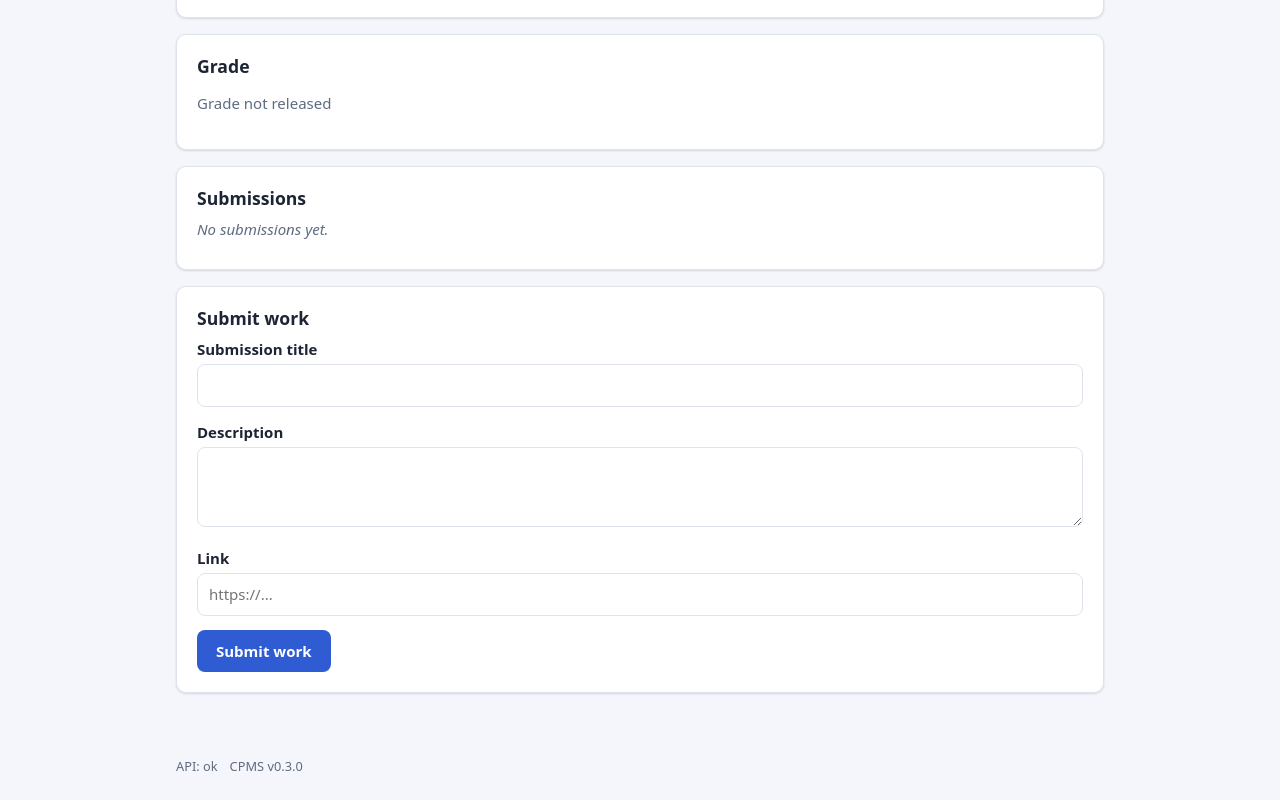
Scenario: Defect #90 UI rejection messages (NFR-12) › TEST-90-UI05: F-03 StudentMilestone renders 'Contains an unsupported character' instead of INVALID_CHARACTER
The width and height of the screenshot is (1280, 800).
(page scrolled)
Click the button "Submit work". click: (264, 651)
box: [197,630,331,672]
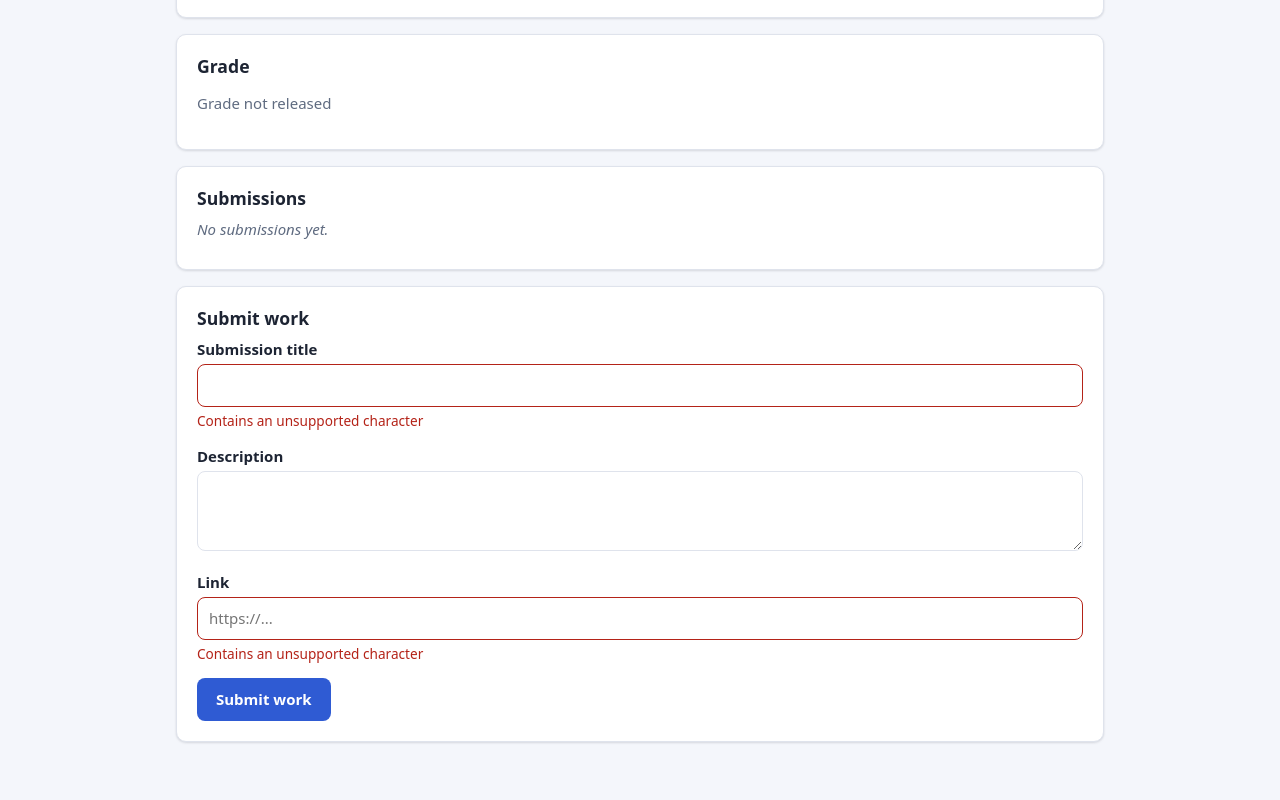
Expected: the text "Contains an unsupported character" is shown 2 times, [197,410,423,430]; [197,644,423,663]
